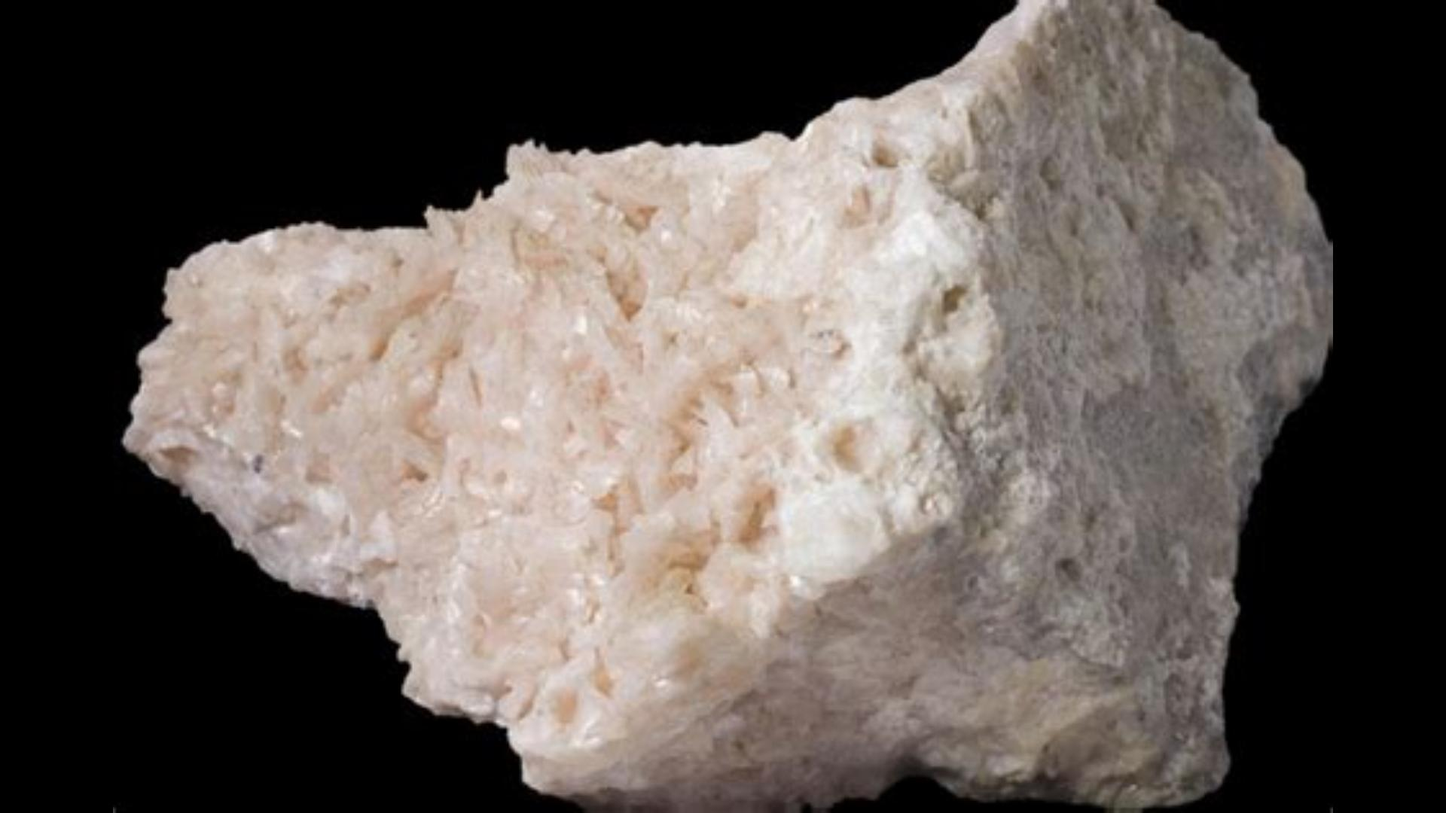rock: (126, 3, 1330, 805)
